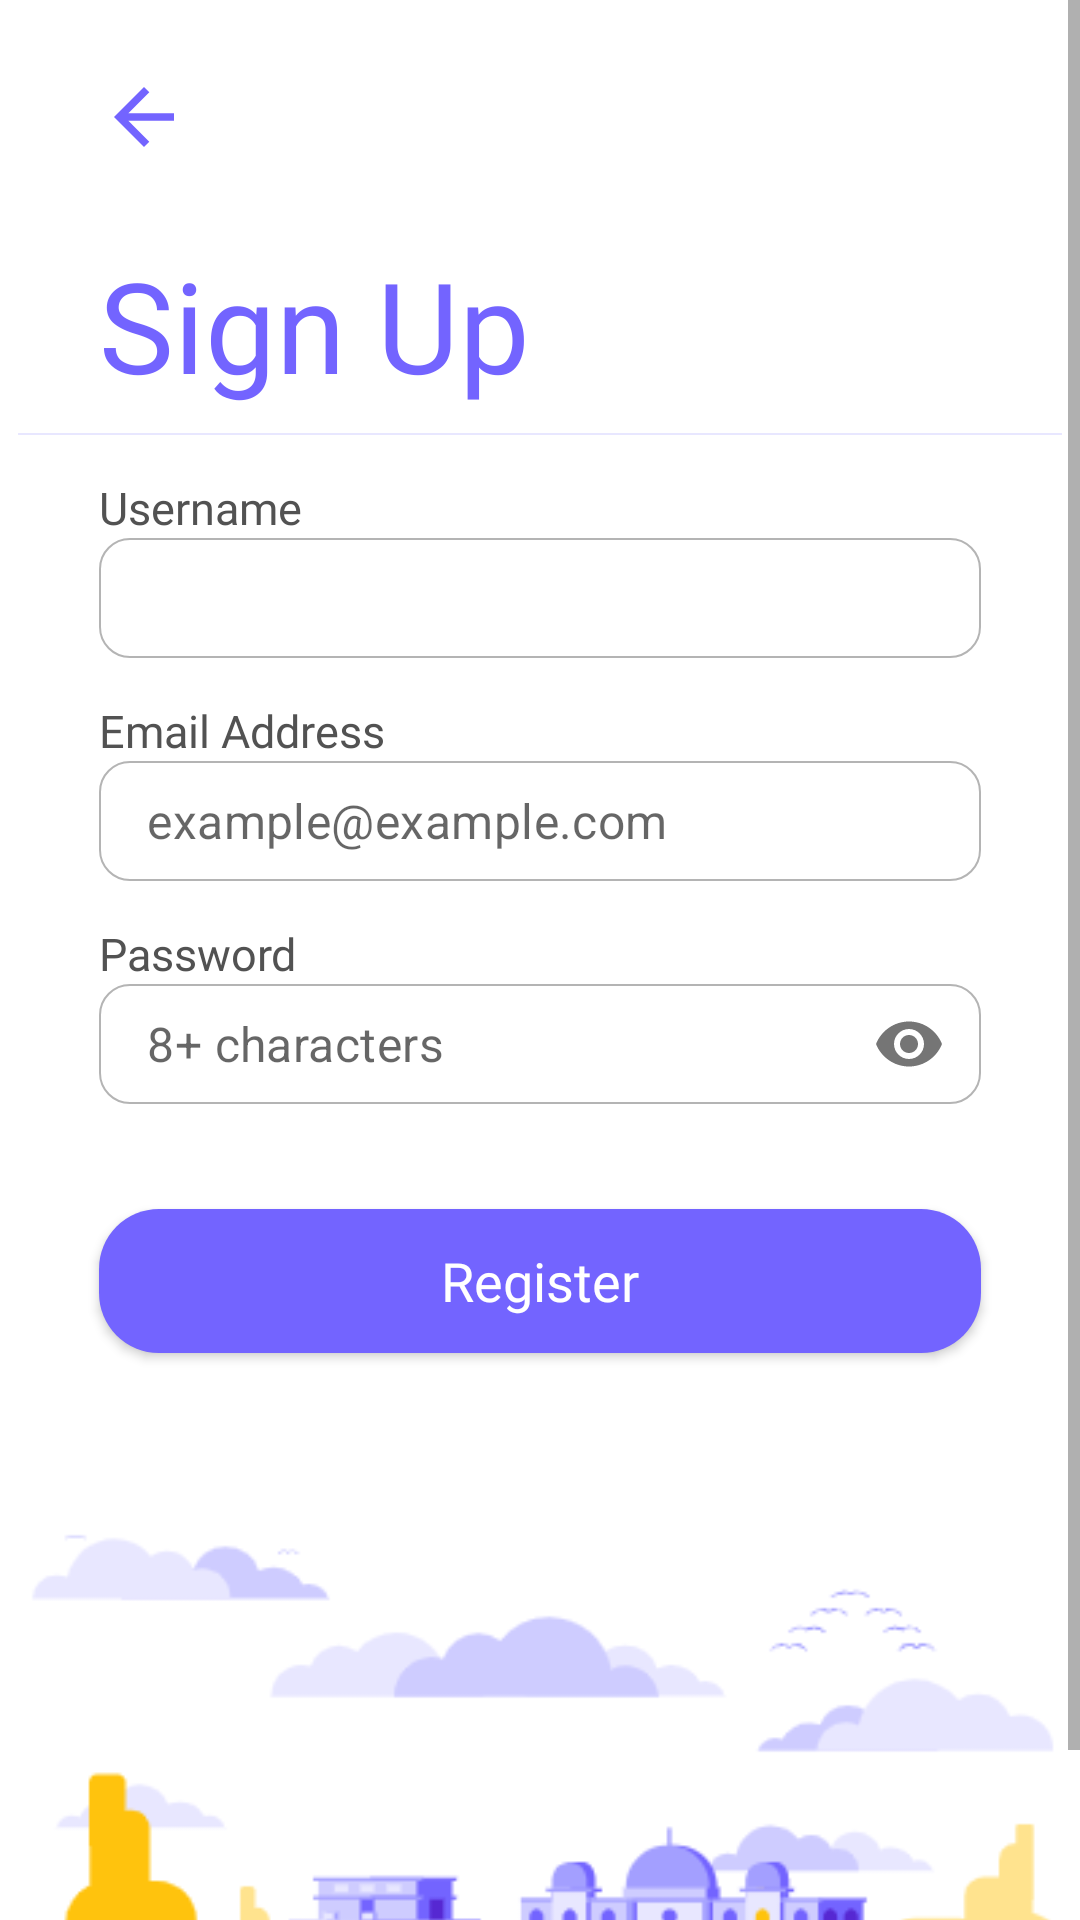

Icon click points for this 1080px×1920px phone screenshot, format (x=x, y=y):
arrow back: (x=144, y=117)
